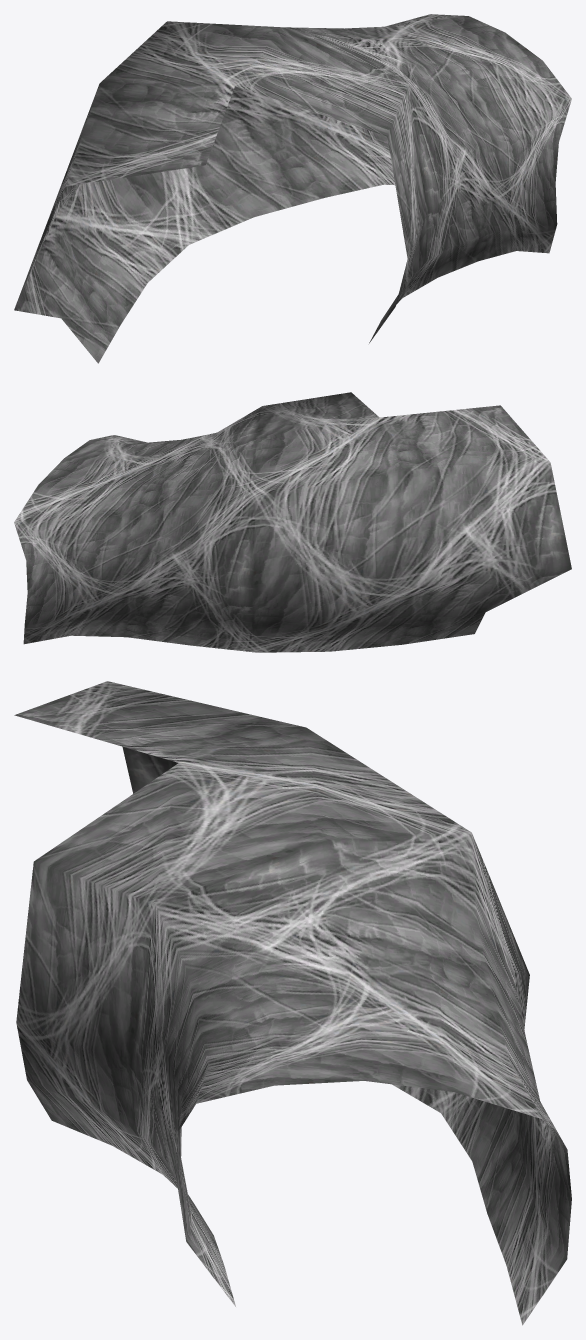
File: SWORDLIGHT20_PS-AREA01_25.fbx
3 views of the same model, one above another, from view 1: azimuth 30°, elevation 25°; view 2: azimuth 150°, elevation 25°; view 3: azimuth 270°, elevation 25° (orthographic). The views are drawn at different scales.
Visible parts, largest first — view 1: SWORDLIGHT20_PS-AREA01_25; view 2: SWORDLIGHT20_PS-AREA01_25; view 3: SWORDLIGHT20_PS-AREA01_25.
Boxes of the visible parts, bbox=[...] form: SWORDLIGHT20_PS-AREA01_25: bbox=[14, 14, 571, 363]; SWORDLIGHT20_PS-AREA01_25: bbox=[14, 392, 571, 652]; SWORDLIGHT20_PS-AREA01_25: bbox=[14, 681, 571, 1325].
Size of the model in its own units: 130752 by 60379 by 85672.
Materials: 1 (1 with a texture image).
